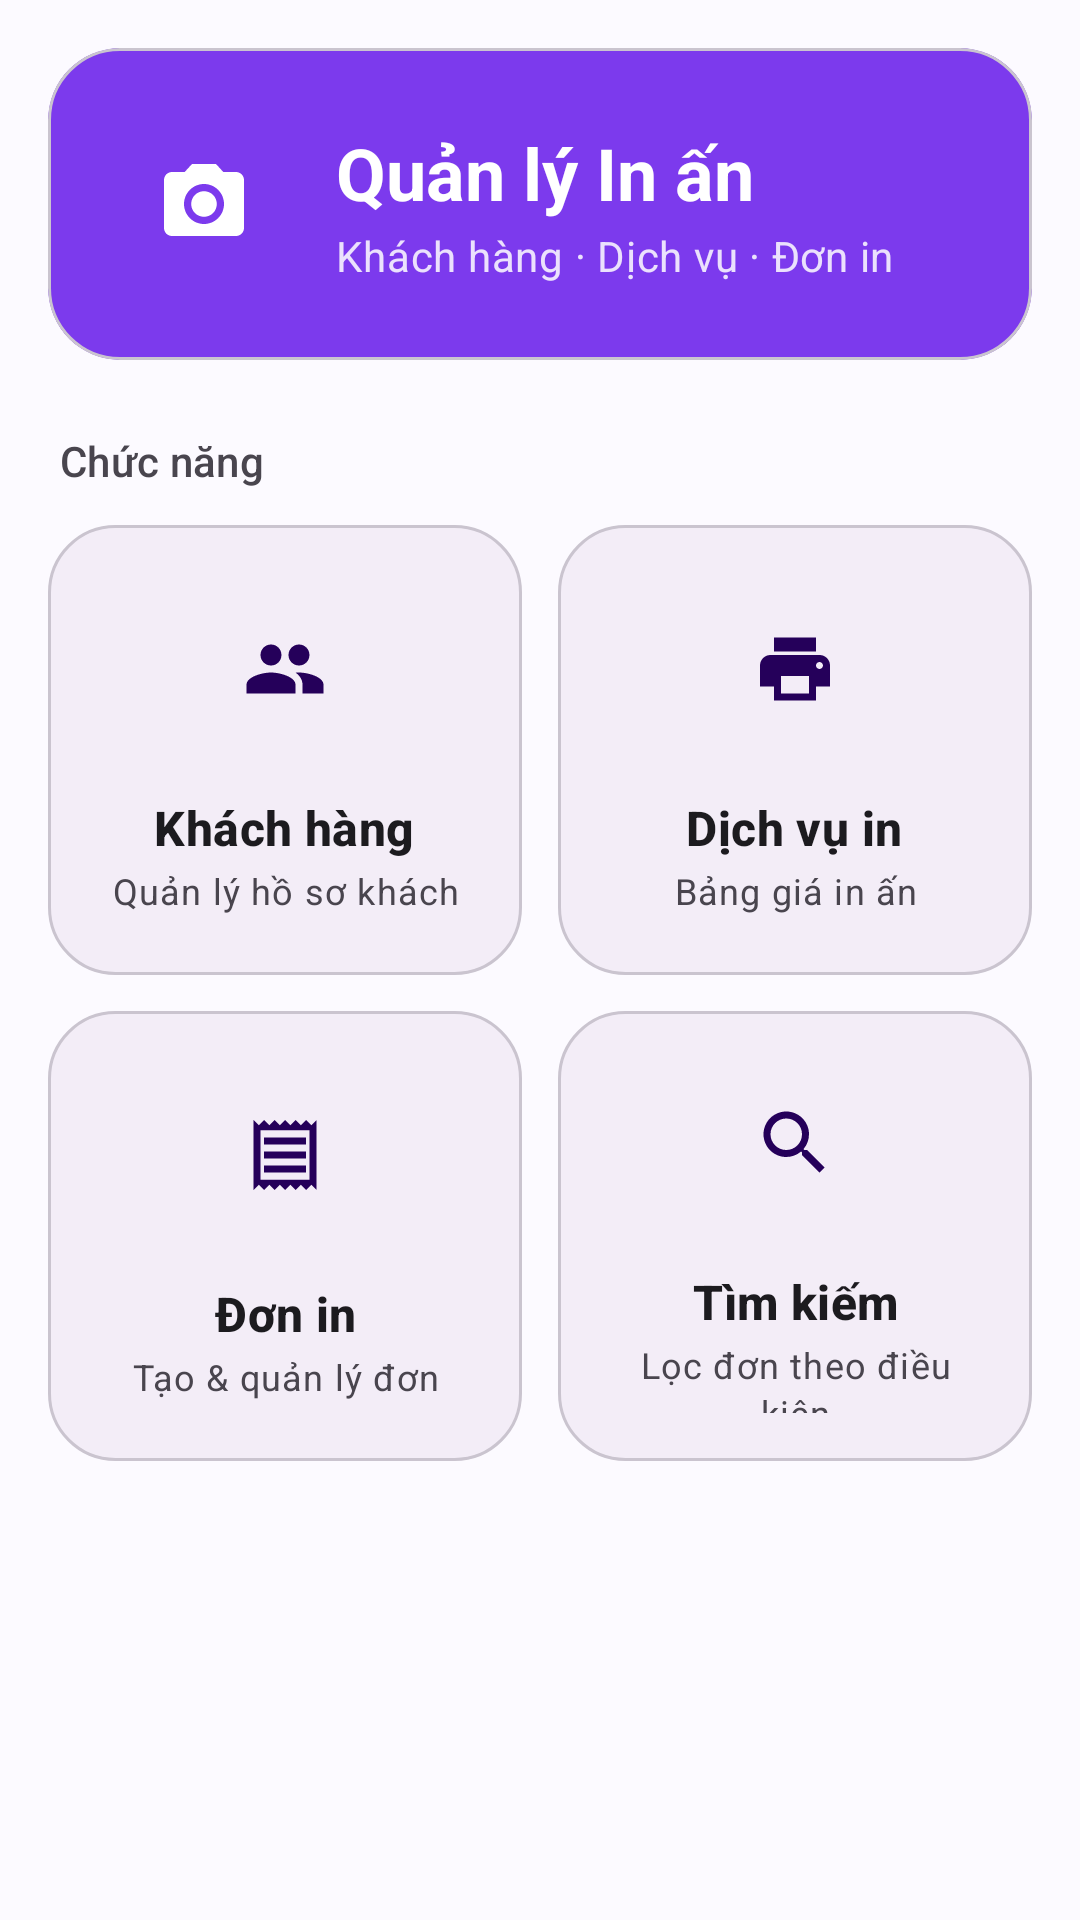

Screen size 1080x1920. Icon name, then its box in pixels as (x1, y1, x2, y2):
photo camera: (164, 164, 244, 236)
print: (760, 637, 830, 701)
receipt: (253, 1120, 317, 1190)
search: (763, 1111, 825, 1173)
